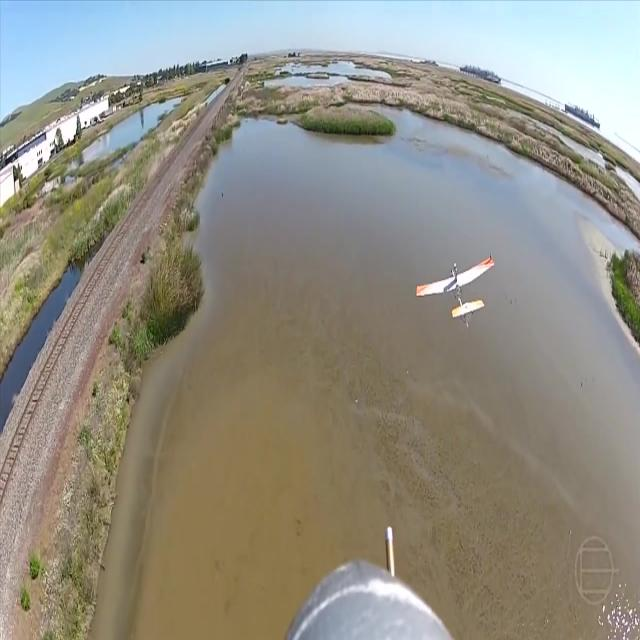iha: (440, 282, 457, 299)
